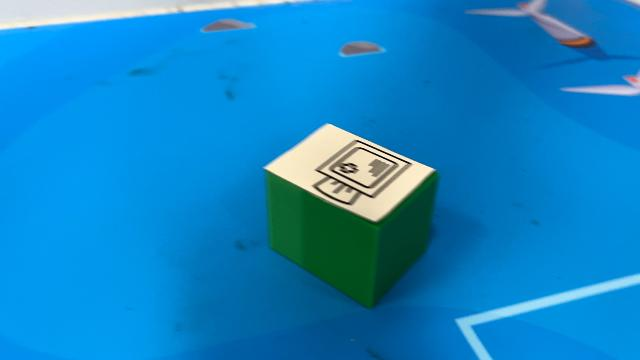napkin: (261, 120, 441, 308)
